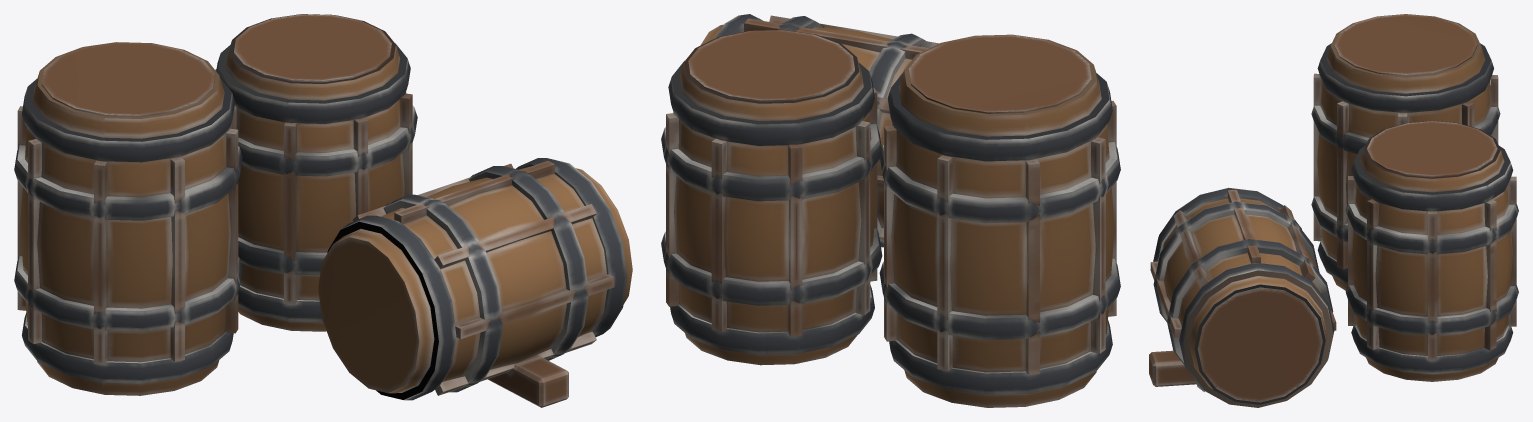
The model's file is gallows_barrel_group.glb.
The picture shows the model from 3 angles, left to right: view 1: azimuth 30°, elevation 25°; view 2: azimuth 150°, elevation 25°; view 3: azimuth 270°, elevation 25°; orthographic projection. The views are drawn at different scales.
Visible parts, largest first — view 1: gallows_barrel_group; view 2: gallows_barrel_group; view 3: gallows_barrel_group.
Boxes of the visible parts, bbox=[...] form: gallows_barrel_group: bbox=[14, 14, 632, 407]; gallows_barrel_group: bbox=[661, 14, 1120, 407]; gallows_barrel_group: bbox=[1149, 14, 1518, 407].
Bounding box in the file's own units: 1.71 × 0.964 × 1.4.
Materials: 1 (1 with a texture image).
